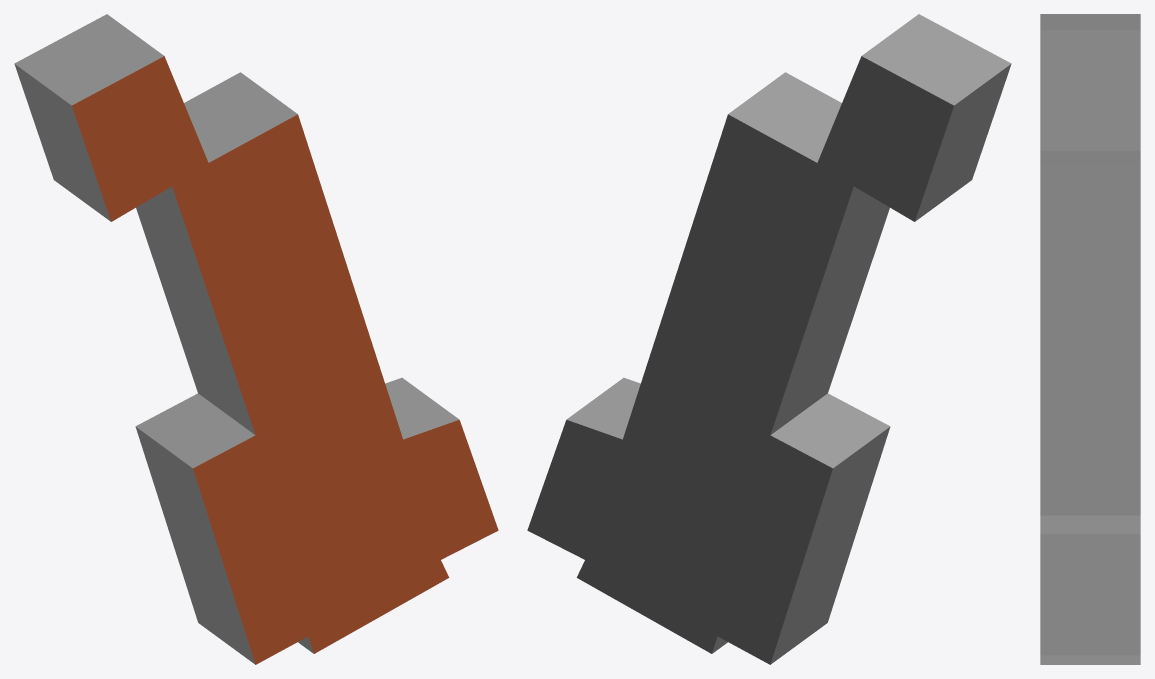
Rendered from construction_3773_assumed_A_Casa_h6m.obj.
The picture shows the model from 3 angles, left to right: view 1: azimuth 30°, elevation 25°; view 2: azimuth 150°, elevation 25°; view 3: azimuth 270°, elevation 25°; orthographic projection. The views are drawn at different scales.
Parts seen in each view (by area): view 1: construction_3773_assumed_A_Casa; view 2: construction_3773_assumed_A_Casa; view 3: construction_3773_assumed_A_Casa.
Part boxes in pixels (bbox=[...]): construction_3773_assumed_A_Casa: bbox=[14, 14, 498, 664]; construction_3773_assumed_A_Casa: bbox=[527, 14, 1011, 664]; construction_3773_assumed_A_Casa: bbox=[1040, 14, 1140, 664].
Size of the model in its own units: 25.72 by 36.54 by 6.
